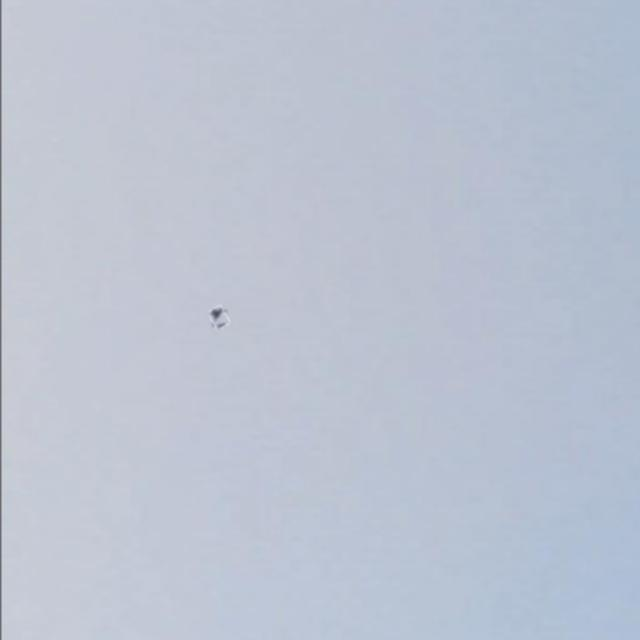plane: (204, 304, 230, 329)
